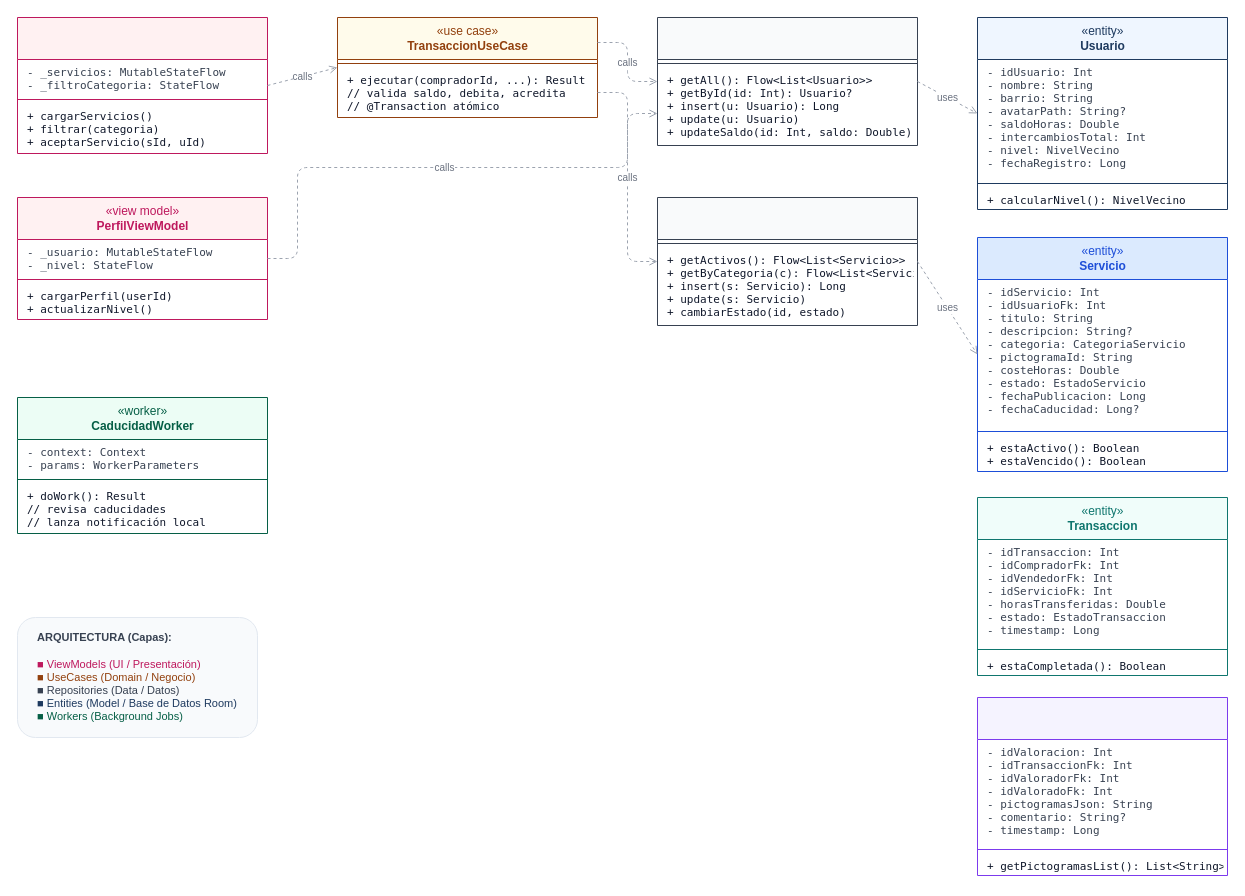
This 1245x896 diagram has some shape labels left out. The shapes that lost their labels are listed below. From the top down, each one's box as (x1, y1, x2, y2) in pixels, then its label:
(16, 16, 268, 154): «view model» EscaparateViewModel
(656, 16, 918, 146): «repository» UsuarioRepository
(656, 196, 918, 326): «repository» ServicioRepository
(976, 696, 1228, 876): «entity» Valoracion
